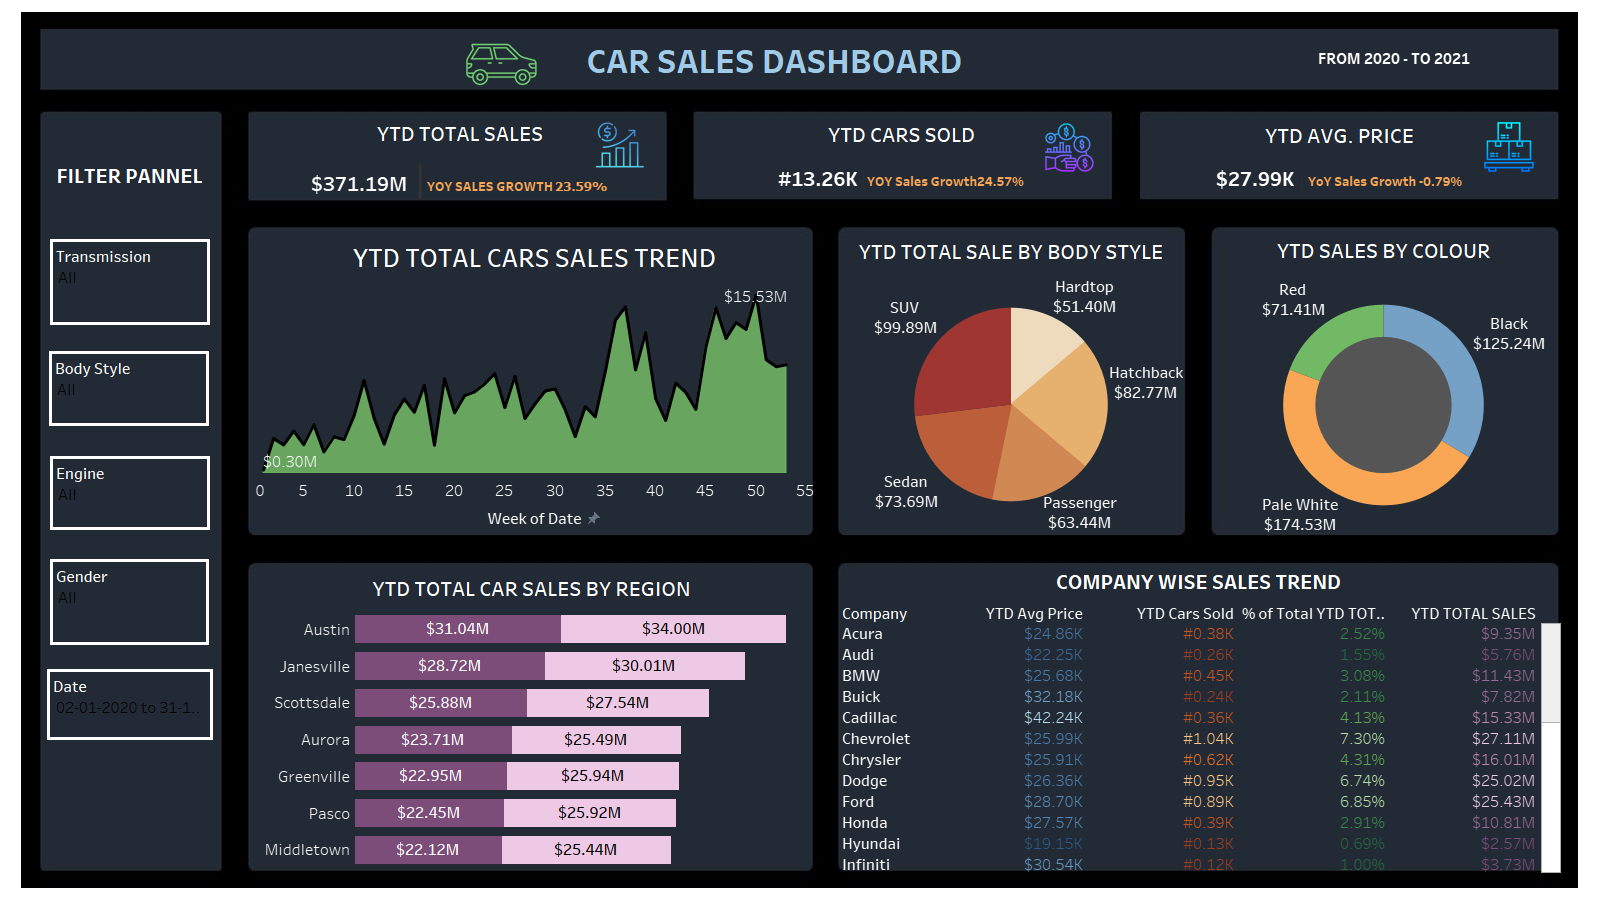

Layout of this report page (visuals, bound fields, positions):
{"tool":"tableau","page":{"name":"Dashboard 1","canvas":[1600,900],"ordinal":0},"visuals":[{"type":"image","param":"Image/Car Sales Background.jpg","box":[8,8,1584,884]},{"type":"image","param":"Image/Car Icon.png","box":[429,22,145,84]},{"type":"worksheet","title":"DATE RANGE","mark":"Automatic","box":[1232,30,324,58]},{"type":"text","box":[583,37,383,45]},{"type":"worksheet","title":"YTD TOTAL SALES","mark":"Automatic","box":[252,113,416,87]},{"type":"worksheet","title":"YTD Cars Sold","mark":"Automatic","box":[694,114,415,85]},{"type":"worksheet","title":"YTD Avg Price","mark":"Automatic","box":[1134,115,411,84]},{"type":"image","param":"Image/Sales Icon.png","box":[587,118,66,53]},{"type":"image","param":"Image/Avg Price Icon.png","box":[1478,120,62,53]},{"type":"image","param":"Image/Cars Sold Icon.png","box":[1042,122,54,50]},{"type":"text","box":[50,160,159,30]},{"type":"worksheet","title":"YTD SALES BY COLOUR","mark":"Pie","rows":["Calculation_945474505987407882","Calculation_945474505987473420"],"box":[1212,230,343,307]},{"type":"worksheet","title":"YTD TOTAL SALE BY BODY STYLE","mark":"Pie","box":[838,231,346,304]},{"type":"worksheet","title":"YTD Cars Sold Trend","mark":"Area","rows":["Calculation_945474505960763392","Calculation_945474505960763392"],"cols":["Date"],"box":[253,234,563,302]},{"type":"filter","title":"YTD Cars Sold Trend","param":"[federated.19kyiw911f320j1d3z5301af6n9x].[none:Transmission:nk]","box":[50,239,160,86]},{"type":"filter","title":"YTD Cars Sold Trend","param":"[federated.19kyiw911f320j1d3z5301af6n9x].[none:Body Style:nk]","box":[49,351,160,75]},{"type":"filter","title":"YTD Cars Sold Trend","param":"[federated.19kyiw911f320j1d3z5301af6n9x].[none:Engine:nk]","box":[50,456,160,74]},{"type":"filter","title":"YTD Cars Sold Trend","param":"[federated.19kyiw911f320j1d3z5301af6n9x].[none:Gender:nk]","box":[50,559,159,86]},{"type":"worksheet","title":"COMPANY WISE SALES TREND","mark":"Automatic","rows":["Company"],"box":[836,561,725,311]},{"type":"worksheet","title":"YTD TOTAL CAR SALES BY REGION","mark":"Automatic","rows":["Dealer_Region"],"cols":["Calculation_945474505960763392"],"box":[255,568,553,300]},{"type":"filter","title":"YTD Cars Sold Trend","param":"[federated.19kyiw911f320j1d3z5301af6n9x].[none:Date:qk]","box":[47,669,166,71]}]}

Visuals, with their boxes in screenshot pixels (x1, y1, x2, y2), scaled from the page's 1600x900 canvas onto the 1600x900 screenshot:
image: l=8, t=8, r=1592, b=892
image: l=429, t=22, r=574, b=106
"DATE RANGE" worksheet: l=1232, t=30, r=1556, b=88
text: l=583, t=37, r=966, b=82
"YTD TOTAL SALES" worksheet: l=252, t=113, r=668, b=200
"YTD Cars Sold" worksheet: l=694, t=114, r=1109, b=199
"YTD Avg Price" worksheet: l=1134, t=115, r=1545, b=199
image: l=587, t=118, r=653, b=171
image: l=1478, t=120, r=1540, b=173
image: l=1042, t=122, r=1096, b=172
text: l=50, t=160, r=209, b=190
"YTD SALES BY COLOUR" worksheet (Pie marks): l=1212, t=230, r=1555, b=537
"YTD TOTAL SALE BY BODY STYLE" worksheet (Pie marks): l=838, t=231, r=1184, b=535
"YTD Cars Sold Trend" worksheet (Area marks): l=253, t=234, r=816, b=536
"YTD Cars Sold Trend" filter: l=50, t=239, r=210, b=325
"YTD Cars Sold Trend" filter: l=49, t=351, r=209, b=426
"YTD Cars Sold Trend" filter: l=50, t=456, r=210, b=530
"YTD Cars Sold Trend" filter: l=50, t=559, r=209, b=645
"COMPANY WISE SALES TREND" worksheet: l=836, t=561, r=1561, b=872
"YTD TOTAL CAR SALES BY REGION" worksheet: l=255, t=568, r=808, b=868
"YTD Cars Sold Trend" filter: l=47, t=669, r=213, b=740
